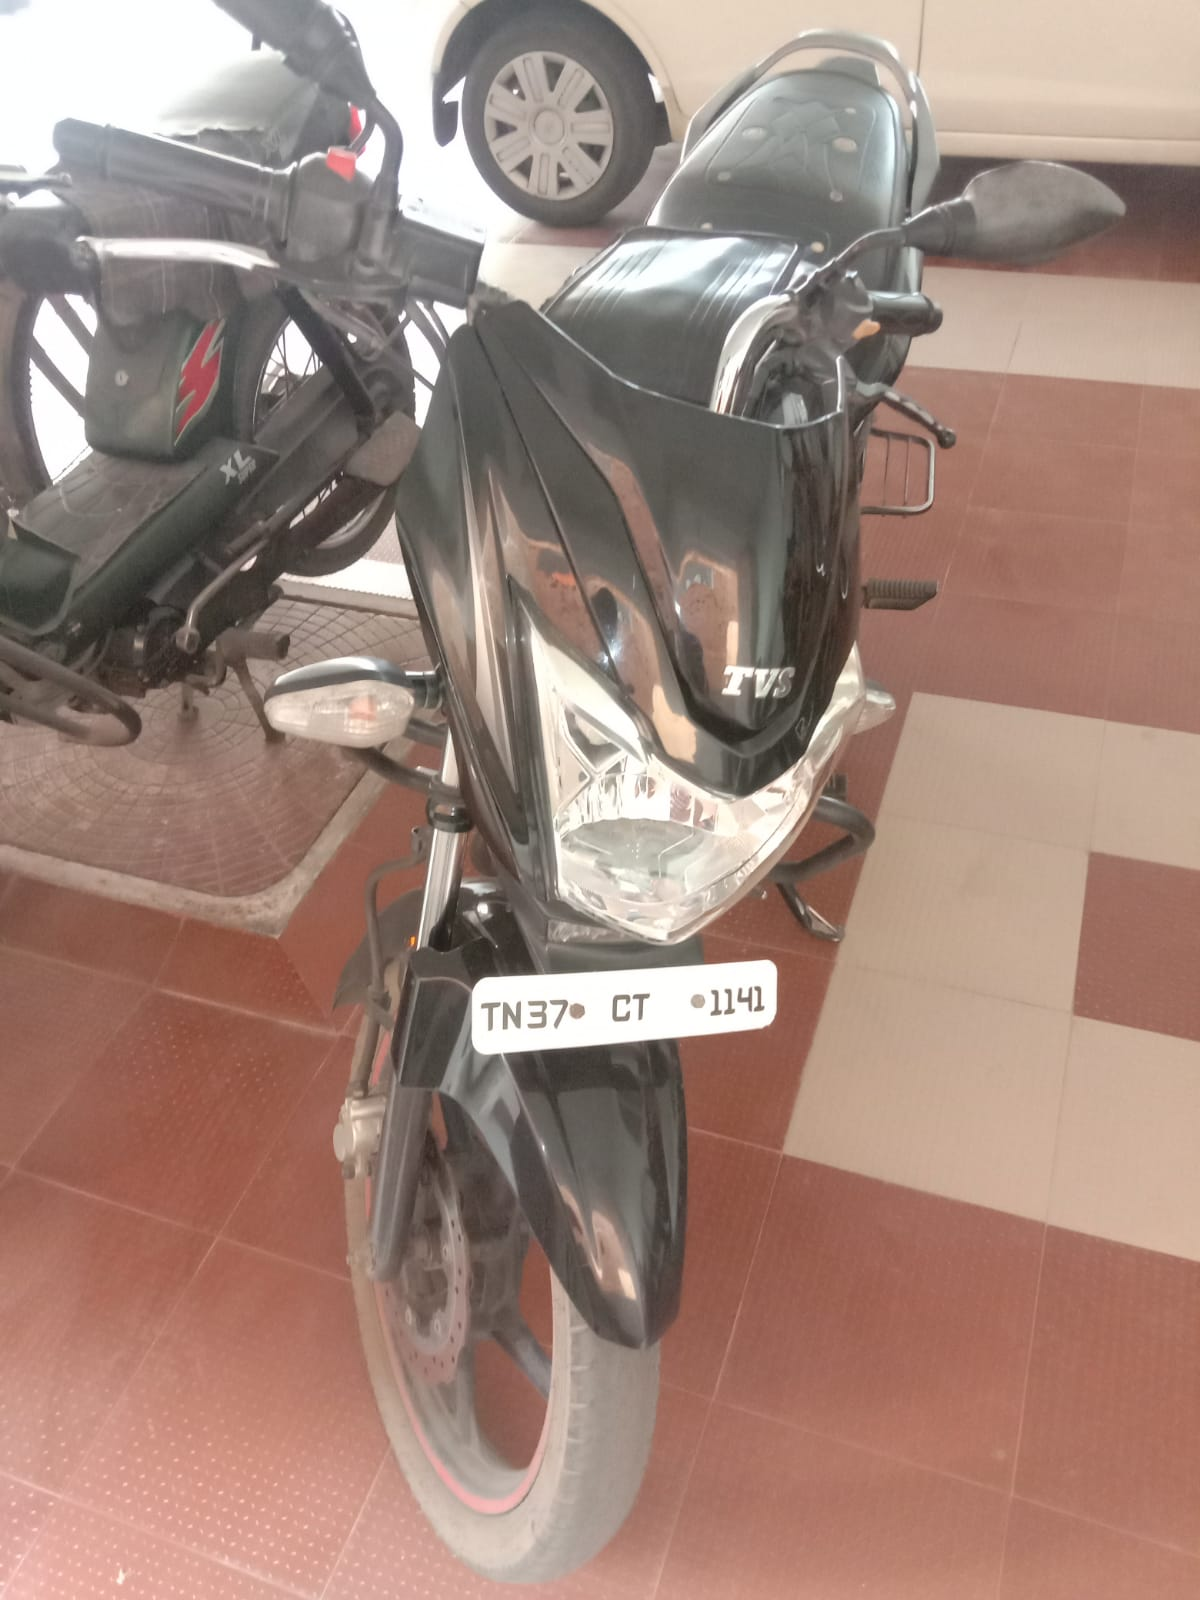bike: (375, 63, 1023, 1577)
numberplate: (466, 950, 830, 1082)
